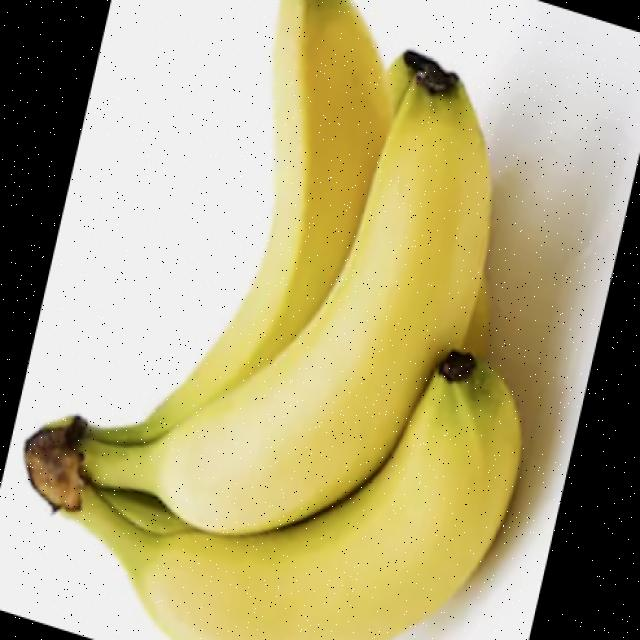god quality banana: (23, 2, 522, 639)
